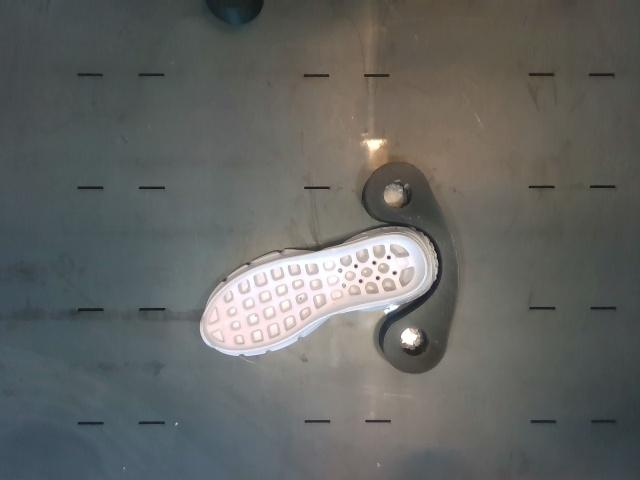shoes: (203, 235, 426, 350)
